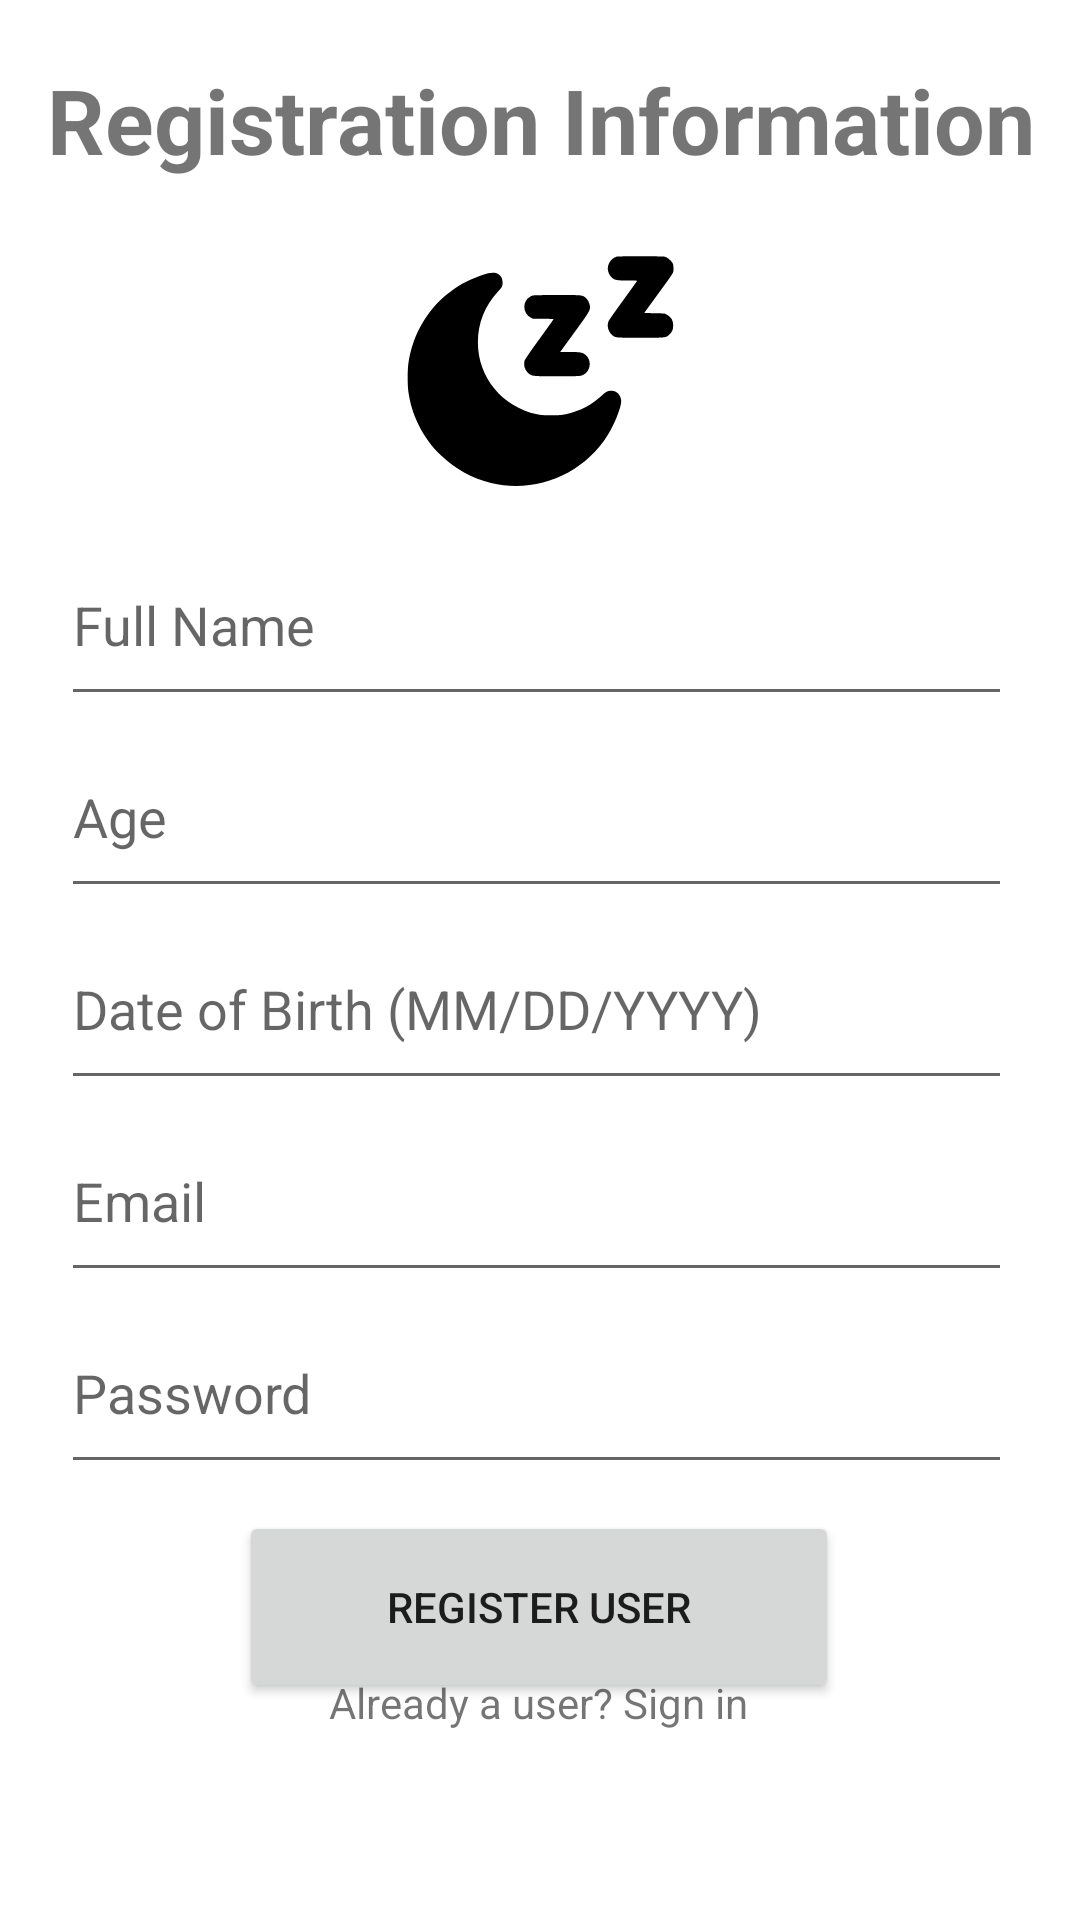

Screen size 1080×1920. Icon name, then its center in pixels as (x=x, y=y):
sleeping: (x=540, y=371)
